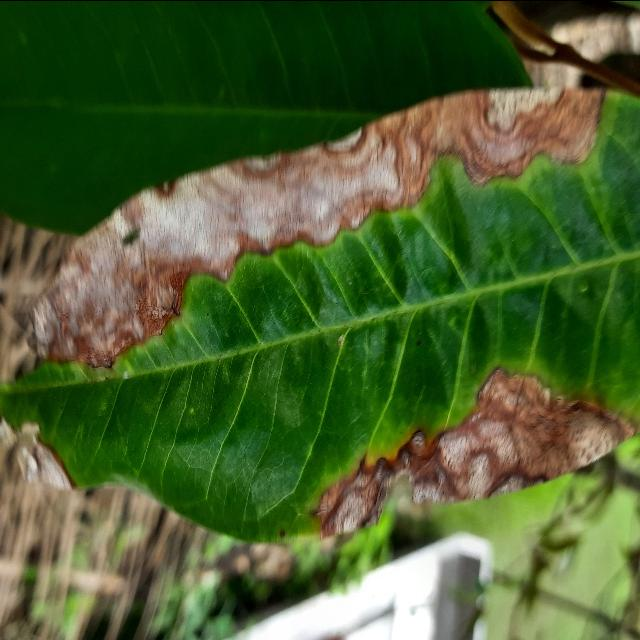Leaf Blight: (0, 77, 640, 554)
